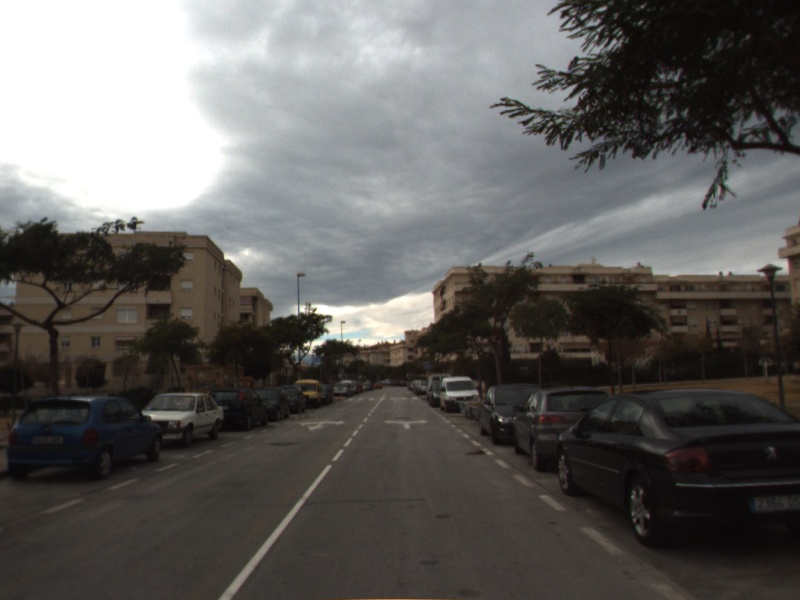LEFT_RIGHT: (382, 417, 431, 431)
